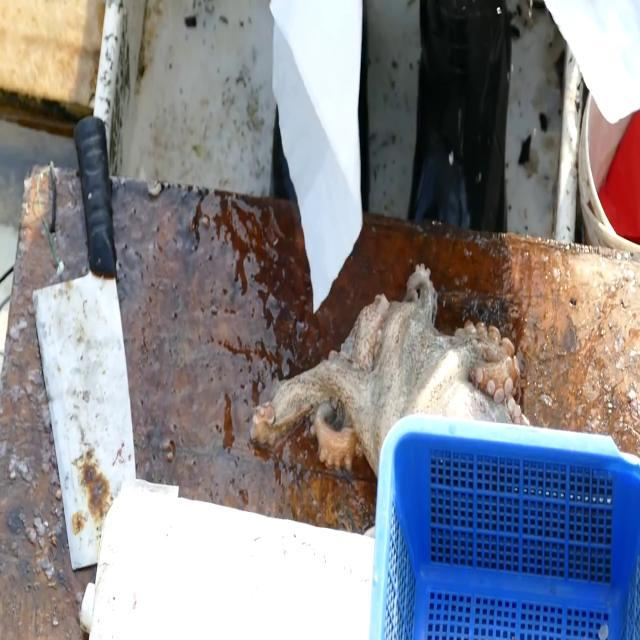octopus: (245, 248, 535, 498)
